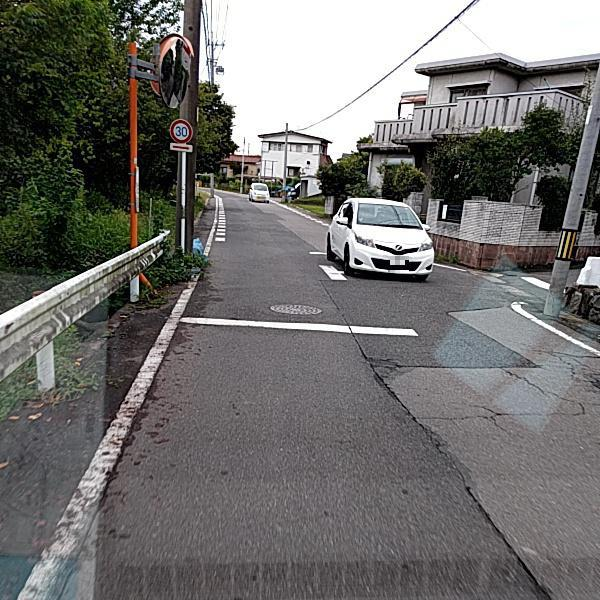D00: (494, 369, 595, 414)
D10: (409, 397, 596, 424)
D20: (537, 342, 599, 392)
D44: (10, 287, 191, 599)
D50: (266, 300, 321, 318)
